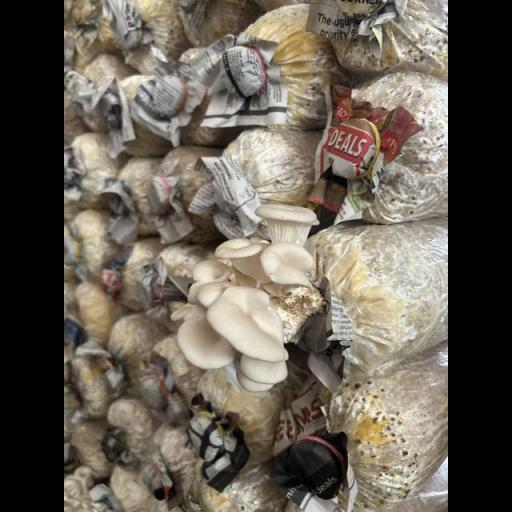White Oyster Mushroom: (163, 197, 335, 405)
